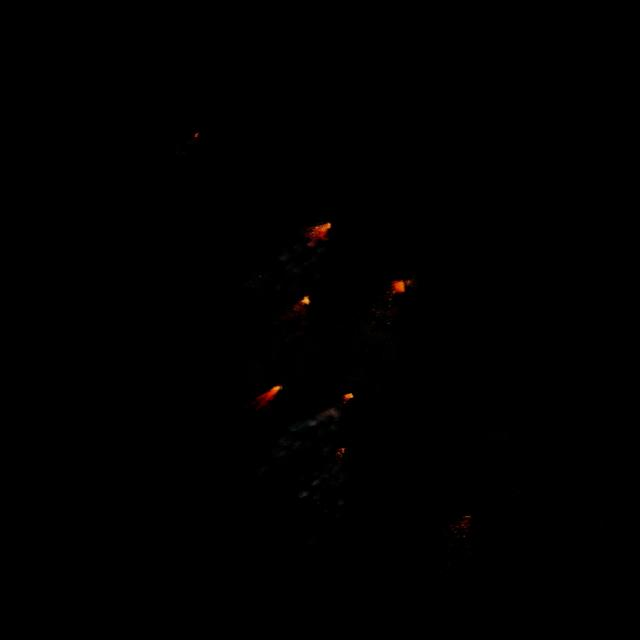fire: (300, 218, 338, 248), (248, 382, 286, 410), (446, 512, 476, 538), (386, 276, 412, 296), (331, 444, 348, 460), (338, 388, 354, 402), (298, 292, 312, 304), (189, 130, 201, 140), (257, 274, 262, 278)
smoke: (263, 402, 353, 469), (235, 236, 326, 294), (197, 398, 266, 459), (420, 512, 484, 577), (256, 300, 316, 358), (346, 290, 406, 344), (293, 462, 350, 502), (157, 136, 199, 162), (318, 494, 351, 522), (253, 461, 276, 477)
